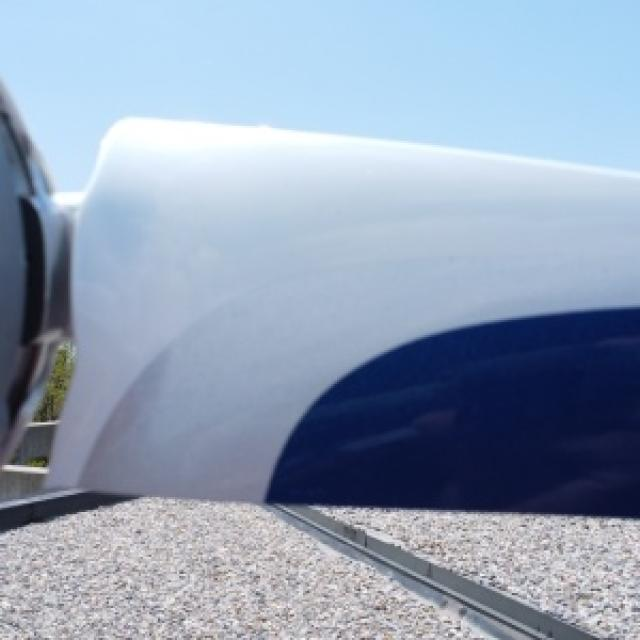healthy: (331, 506, 638, 638)
